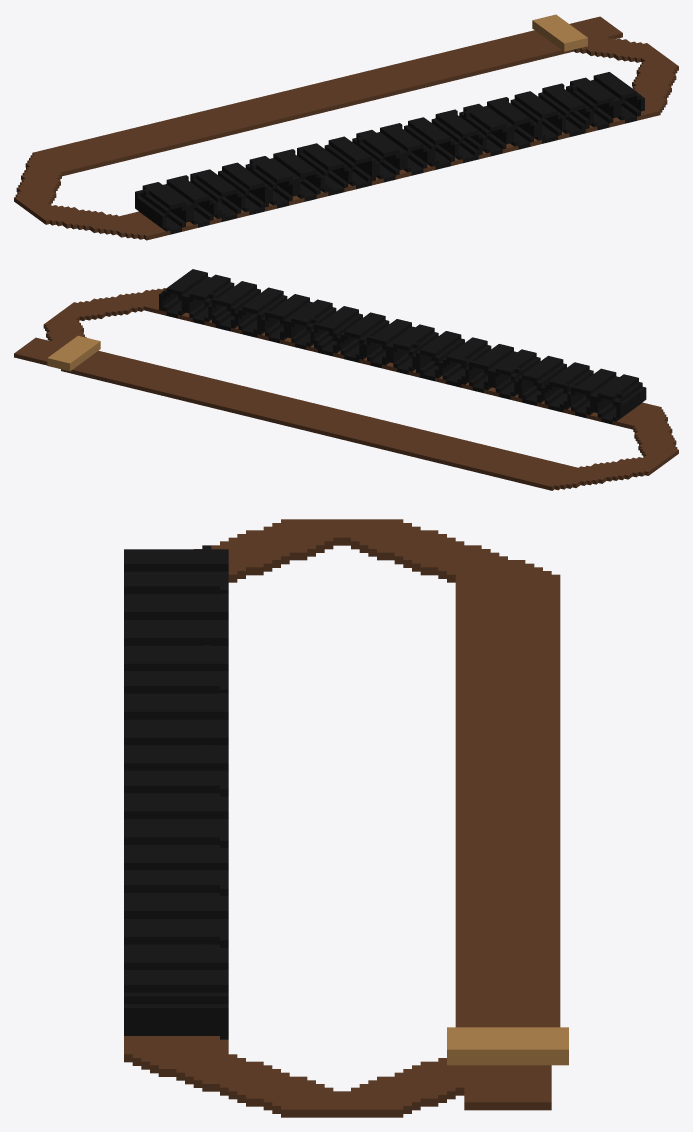
File: torso_bandolier_shotgun.glb
The picture shows the model from 3 angles, top to bottom: view 1: azimuth 30°, elevation 25°; view 2: azimuth 150°, elevation 25°; view 3: azimuth 270°, elevation 25°; orthographic projection. The views are drawn at different scales.
Visible parts, largest first — view 1: torso_bandolier_shotgun:compound; view 2: torso_bandolier_shotgun:compound; view 3: torso_bandolier_shotgun:compound.
Part boxes in pixels (left/top/right/bottom): torso_bandolier_shotgun:compound: left=14, top=14, right=678, bottom=240; torso_bandolier_shotgun:compound: left=14, top=269, right=678, bottom=490; torso_bandolier_shotgun:compound: left=124, top=519, right=568, bottom=1117.
Size of the model in its own units: 0.64 by 0.028 by 0.204.
